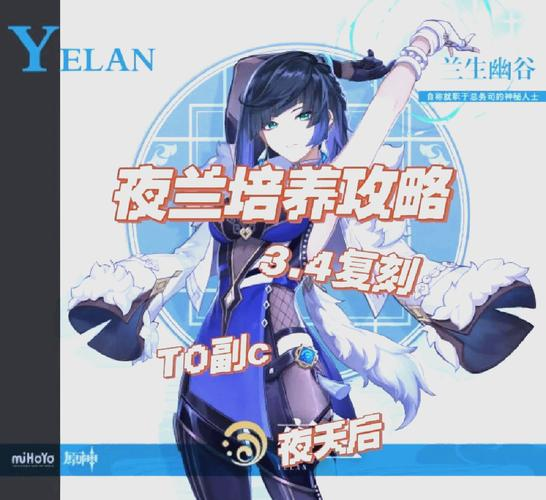夜兰: (170, 19, 480, 498)
